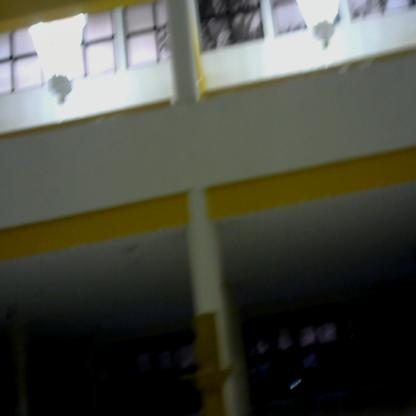pole: (176, 312, 242, 416)
